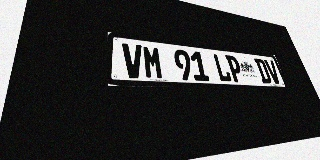1: (189, 51, 210, 81)
9: (173, 49, 194, 80)
D: (254, 58, 272, 83)
L: (212, 53, 232, 82)
M: (142, 45, 164, 79)
P: (225, 55, 245, 82)
V: (122, 43, 144, 79), (264, 59, 282, 84)
